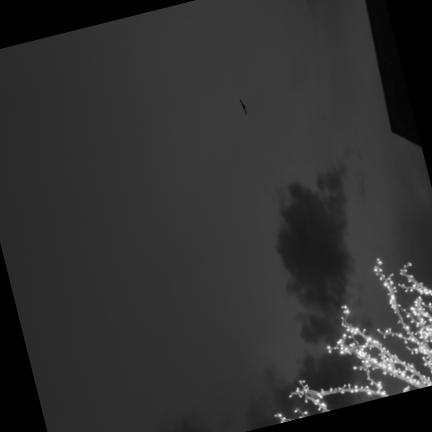Shahed: (239, 99, 246, 113)
